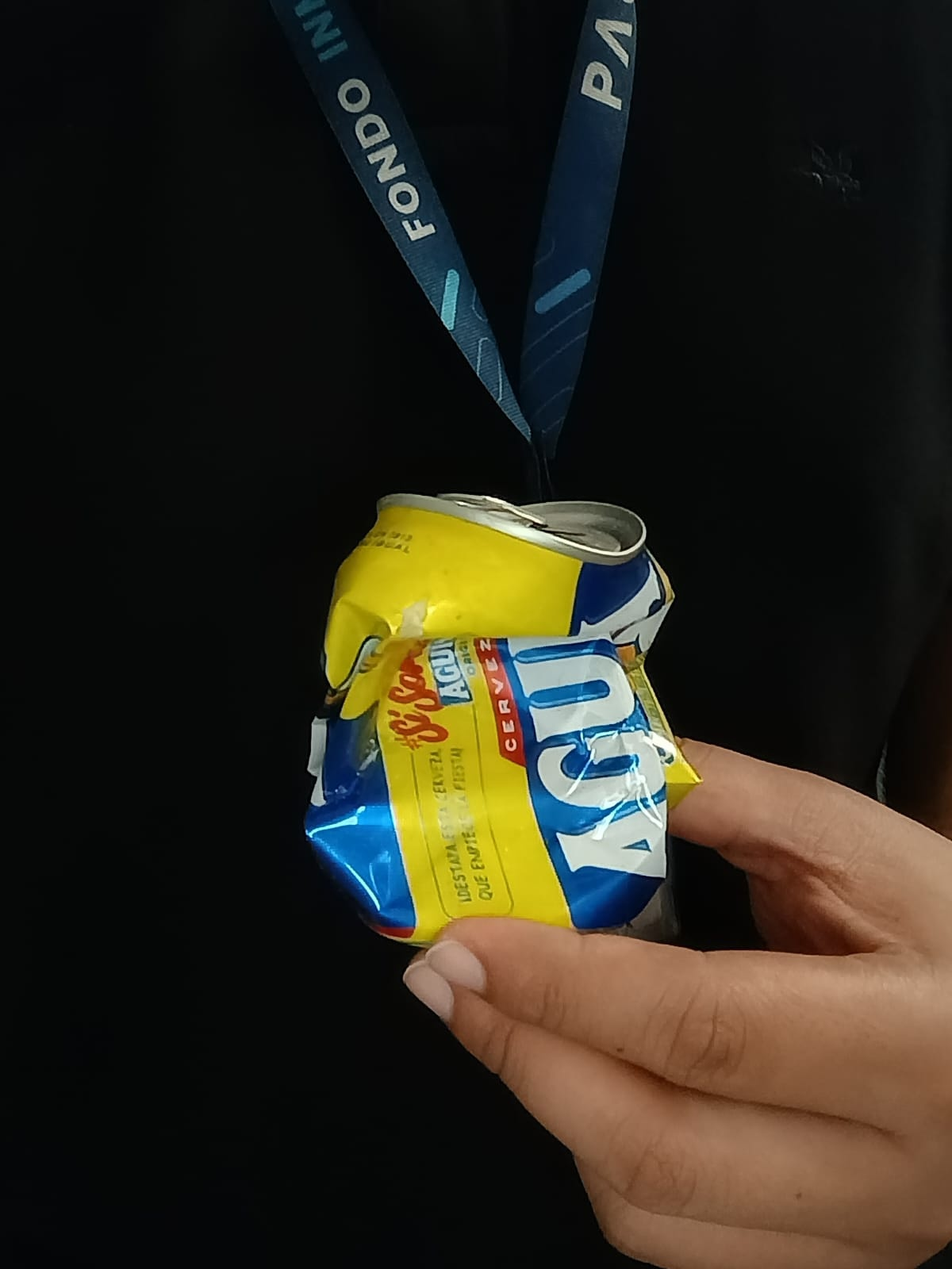Metal: (304, 490, 703, 968)
